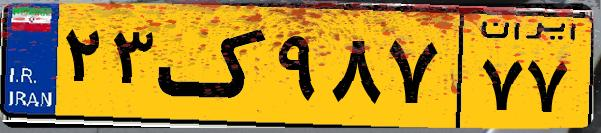2: (57, 26, 110, 100)
3: (110, 28, 158, 98)
7: (385, 28, 445, 110), (475, 38, 525, 113), (525, 38, 570, 115)
8: (330, 28, 385, 110)
9: (270, 28, 330, 110)
ک: (158, 12, 270, 120)
